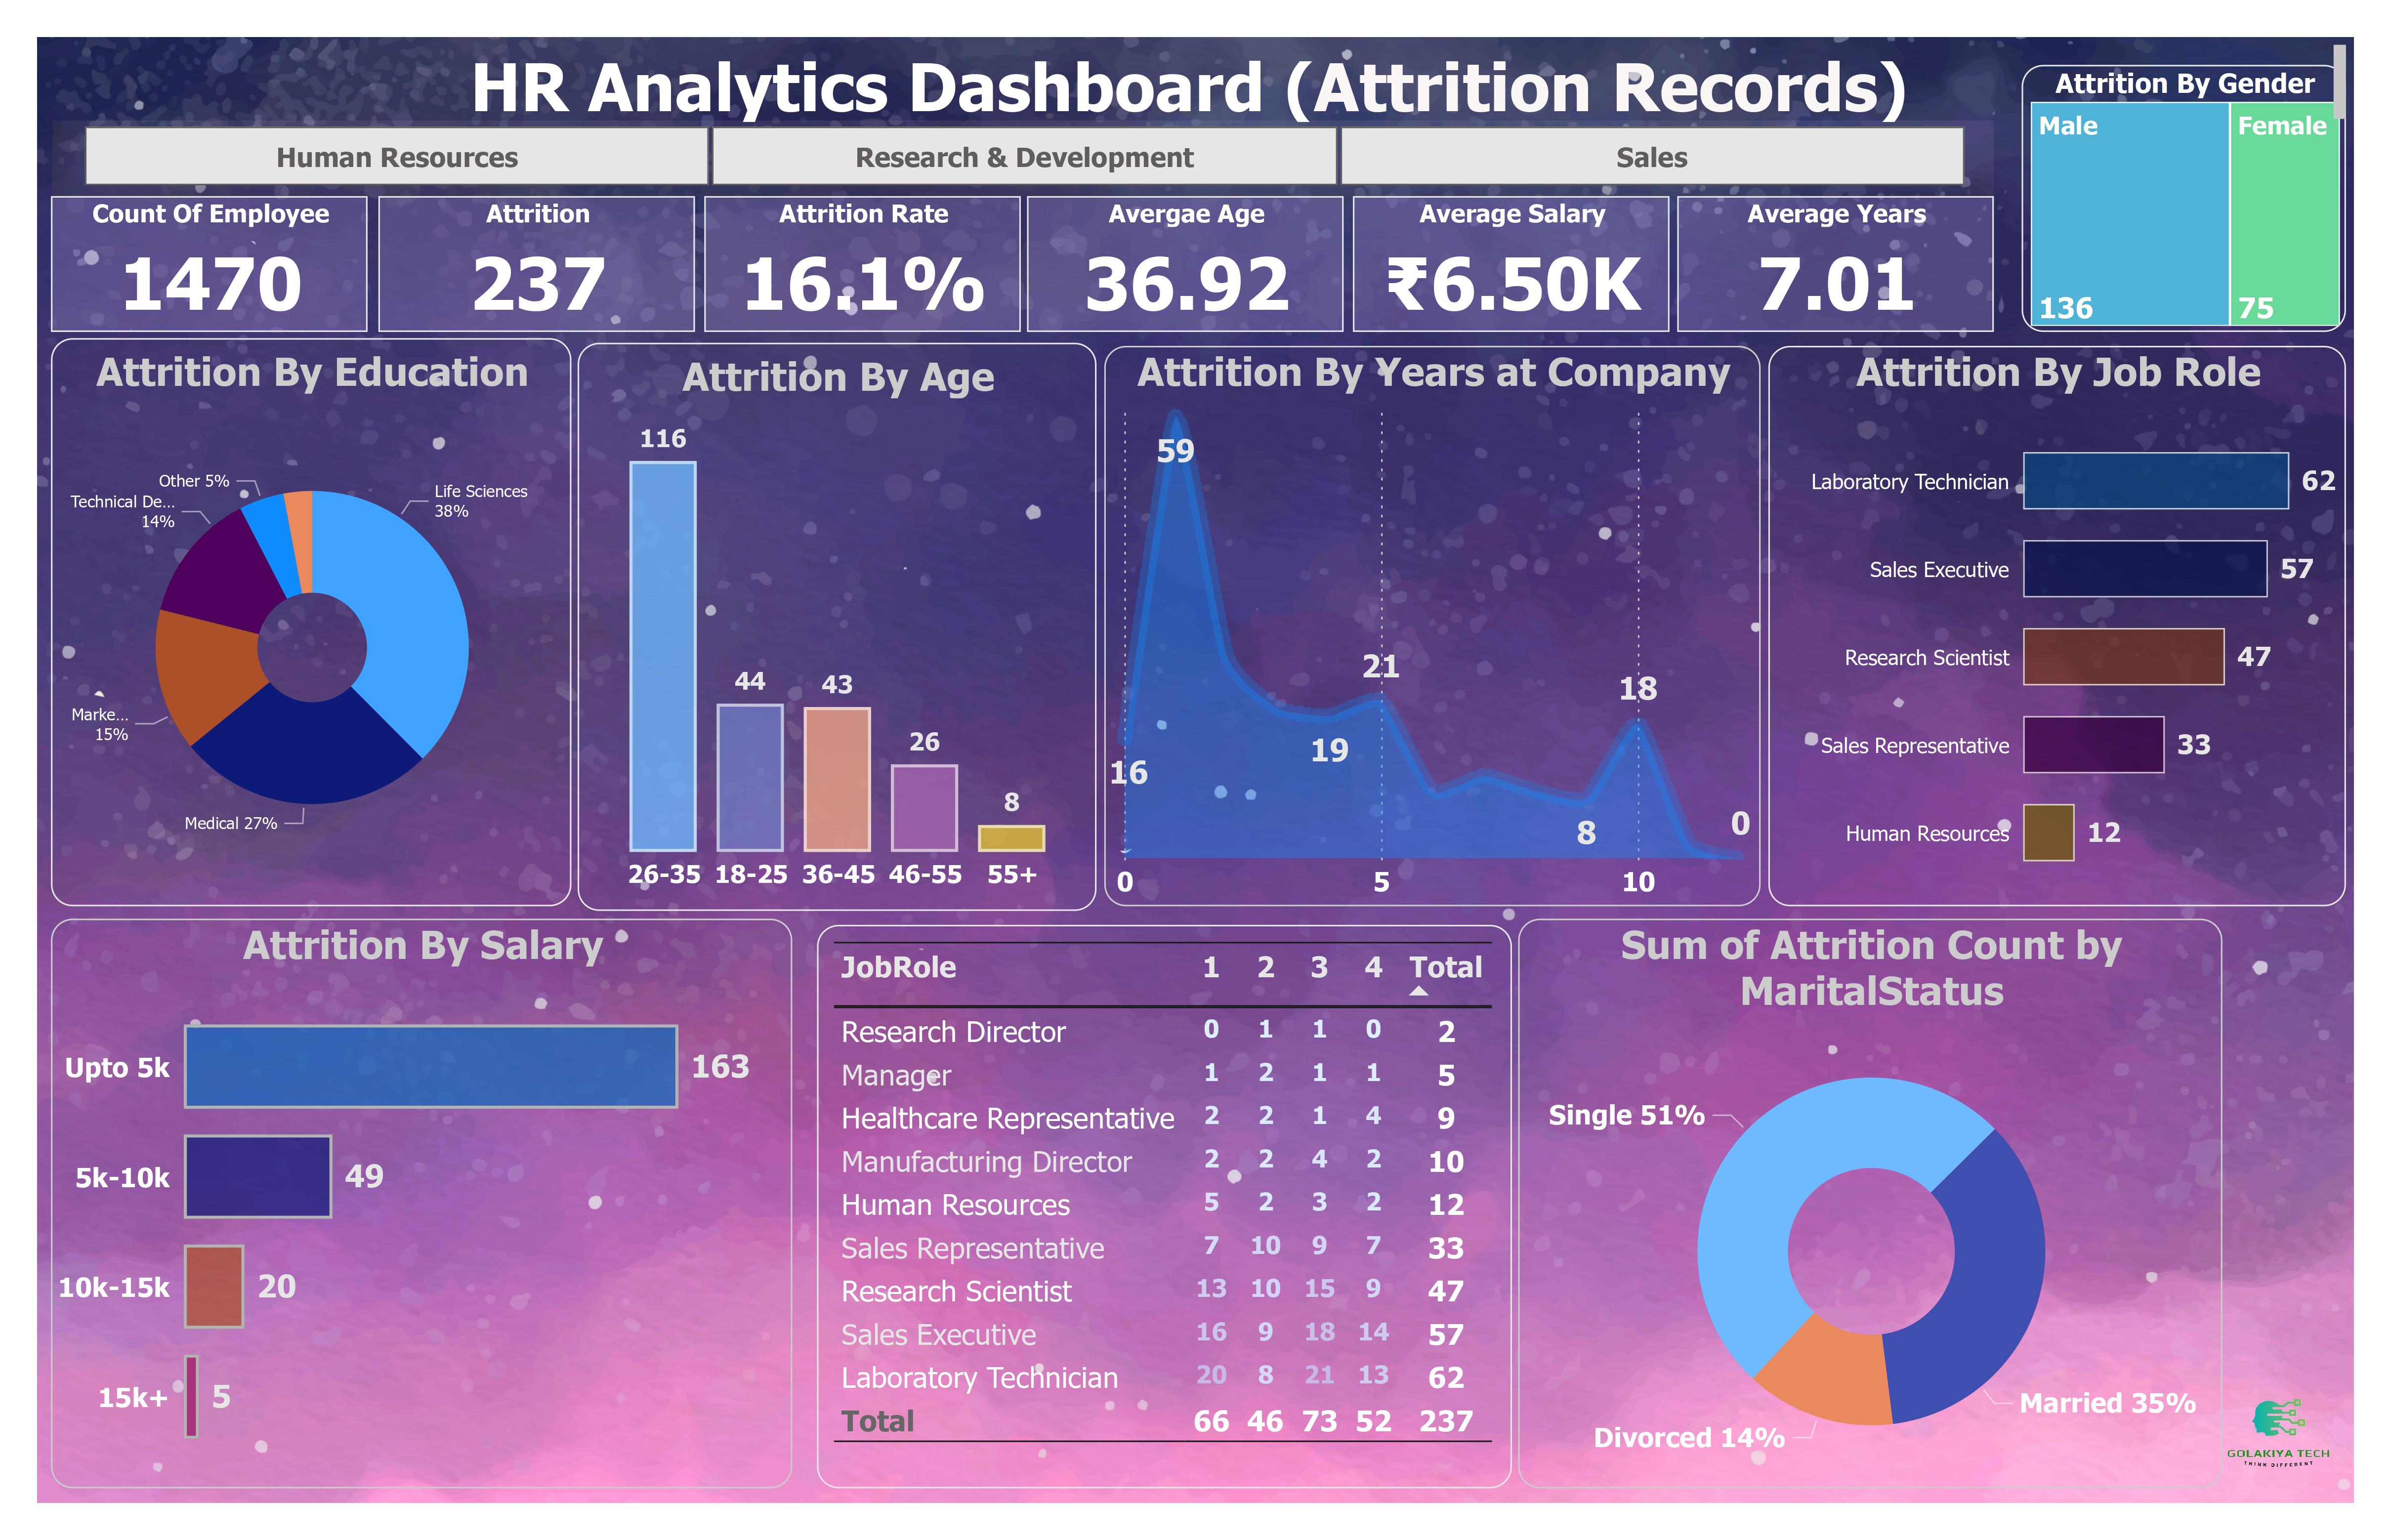

This screenshot's page, from the dashboard's own definition file:
{"tool":"powerbi","page":{"name":"Page 1","canvas":[1500,950],"ordinal":0},"visuals":[{"type":"card","title":"Count Of Employee","fields":{"Values":["CountNonNull(HR_Analytics (2).EmpID)"]},"box":[9.2,103.3,205.1,87.5],"z":0},{"type":"image","box":[1402.7,858.8,96.5,92],"z":1000},{"type":"card","title":"Attrition","fields":{"Values":["Sum(HR_Analytics (2).Attrition Count)"]},"box":[221.4,103.3,205,87.5],"z":2000},{"type":"card","title":"Attrition Rate","fields":{"Values":["HR_Analytics (2).Attrition Rate"]},"box":[431.5,103.3,205.1,87.5],"z":3000},{"type":"card","title":"Avergae Age","fields":{"Values":["Avg(HR_Analytics (2).Age)"]},"box":[641.1,103.3,205.1,87.5],"z":4000},{"type":"card","title":"Average Salary","fields":{"Values":["Avg(HR_Analytics (2).MonthlyIncome)"]},"box":[852.2,103.3,205.1,87.5],"z":5000},{"type":"card","title":"Average Years","fields":{"Values":["Avg(HR_Analytics (2).YearsAtCompany)"]},"box":[1061.9,103.3,205.1,87.5],"z":6000},{"type":"donutChart","title":"Attrition By Education","fields":{"Category":["HR_Analytics (2).EducationField"],"Y":["Sum(HR_Analytics (2).Attrition Count)"]},"box":[9.2,195.2,336.3,368],"z":7000},{"type":"clusteredColumnChart","title":"Attrition By Age","fields":{"Category":["HR_Analytics (2).AgeGroup"],"Y":["Sum(HR_Analytics (2).Attrition Count)"]},"box":[350.1,198.3,336,368],"z":8000},{"type":"pivotTable","fields":{"Rows":["HR_Analytics (2).JobRole"],"Columns":["HR_Analytics (2).JobSatisfaction"],"Values":["Sum(HR_Analytics (2).Attrition Count)"]},"box":[505.4,575.3,449.4,364.9],"z":9000},{"type":"barChart","title":"Attrition By Salary","fields":{"Category":["HR_Analytics (2).SalarySlab"],"Y":["Sum(HR_Analytics (2).Attrition Count)"]},"box":[9.2,570.8,479.6,369.5],"z":10000},{"type":"clusteredBarChart","title":"Attrition By Job Role","fields":{"Category":["HR_Analytics (2).JobRole"],"Y":["Sum(HR_Analytics (2).Attrition Count)"]},"box":[1120.7,199.8,374,363.4],"z":11000},{"type":"areaChart","title":"Attrition By Years at Company","fields":{"Category":["HR_Analytics (2).YearsAtCompany"],"Y":["Sum(HR_Analytics (2).Attrition Count)"]},"box":[690.9,199.8,425.3,363.4],"z":12000},{"type":"treemap","title":"Attrition By Gender","fields":{"Group":["HR_Analytics (2).Gender"],"Values":["Sum(HR_Analytics (2).Attrition Count)"]},"box":[1284.6,17.5,210.1,173.5],"z":13000},{"type":"slicer","fields":{"Values":["HR_Analytics (2).Department"]},"box":[9.6,54.1,1257.5,49.3],"z":14000},{"type":"textbox","box":[0,0,1499.5,60.5],"z":15000},{"type":"pieChart","fields":{"Category":["HR_Analytics (2).MaritalStatus"],"Y":["Sum(HR_Analytics (2).Attrition Count)"]},"box":[959.3,570.8,455.4,369.5],"z":16000}]}

Visuals, with their boxes in screenshot pixels (x1, y1, x2, y2):
"Count Of Employee" card: <region>51, 197, 368, 332</region>
image: <region>2204, 1362, 2352, 1503</region>
"Attrition" card: <region>379, 197, 696, 332</region>
"Attrition Rate" card: <region>704, 197, 1020, 332</region>
"Avergae Age" card: <region>1027, 197, 1344, 332</region>
"Average Salary" card: <region>1353, 197, 1670, 332</region>
"Average Years" card: <region>1677, 197, 1994, 332</region>
"Attrition By Education" donutChart: <region>51, 338, 571, 906</region>
"Attrition By Age" clusteredColumnChart: <region>578, 343, 1097, 911</region>
pivotTable - HR_Analytics (2).JobRole x HR_Analytics (2).JobSatisfaction: <region>818, 925, 1512, 1488</region>
"Attrition By Salary" barChart: <region>51, 918, 792, 1488</region>
"Attrition By Job Role" clusteredBarChart: <region>1768, 345, 2346, 906</region>
"Attrition By Years at Company" areaChart: <region>1104, 345, 1761, 906</region>
"Attrition By Gender" treemap: <region>2021, 64, 2346, 332</region>
slicer - HR_Analytics (2).Department: <region>52, 121, 1994, 197</region>
textbox: <region>37, 37, 2353, 130</region>
pieChart - HR_Analytics (2).MaritalStatus x Sum(HR_Analytics (2).Attrition Count): <region>1519, 918, 2222, 1488</region>
